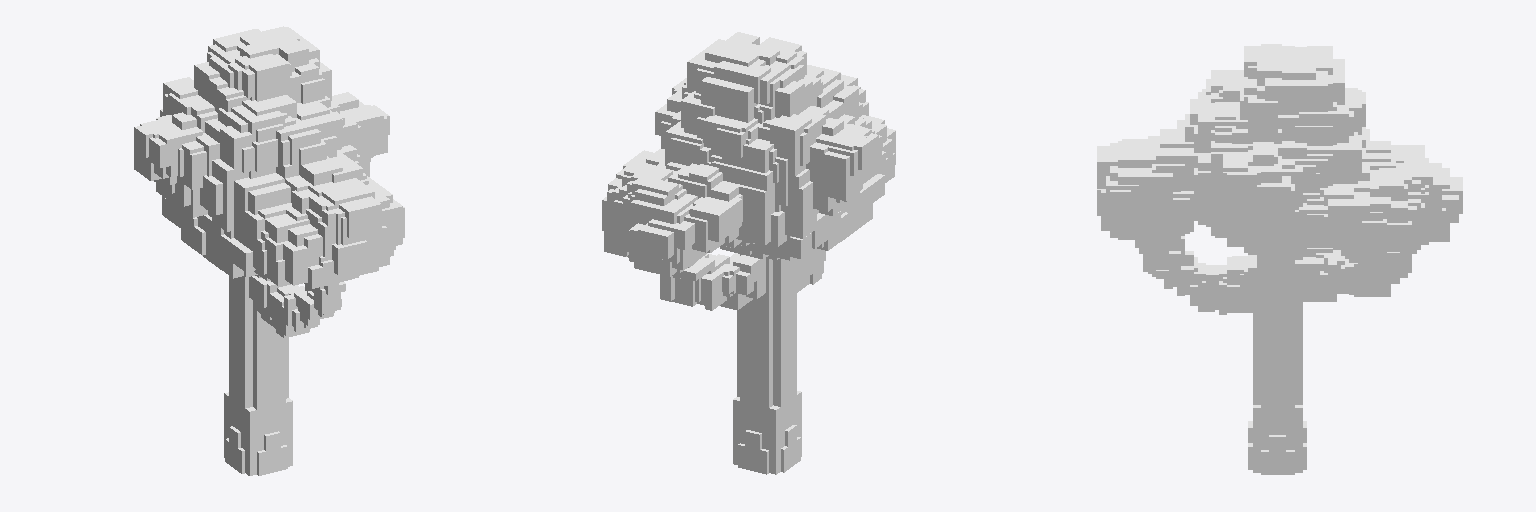
The model's file is Tree_2.obj.
3 renders of one model, left to right at view 1: azimuth 30°, elevation 25°; view 2: azimuth 150°, elevation 25°; view 3: azimuth 270°, elevation 25°, orthographic.
Parts seen in each view (by area): view 1: Tree_2; view 2: Tree_2; view 3: Tree_2.
Part boxes in pixels (x1,y1,x2,y2): Tree_2: (134,26,404,475); Tree_2: (602,32,895,474); Tree_2: (1097,44,1462,474).
Size of the model in its own units: 59 by 108 by 87.